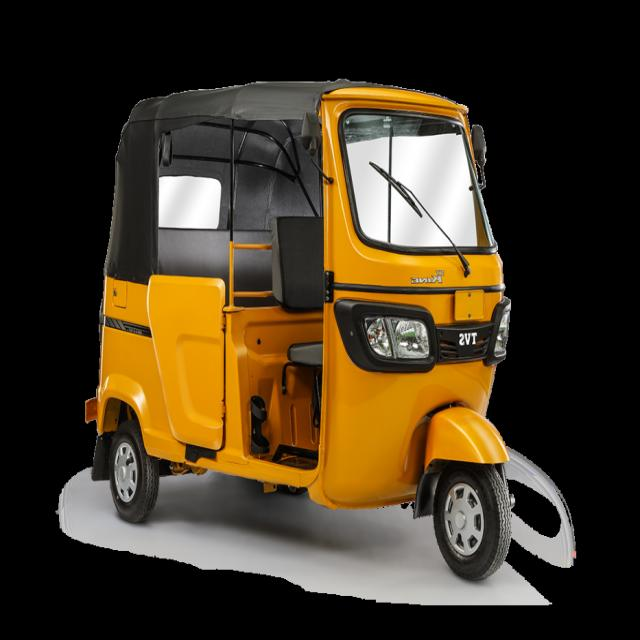autorickshaw: (86, 80, 512, 579)
